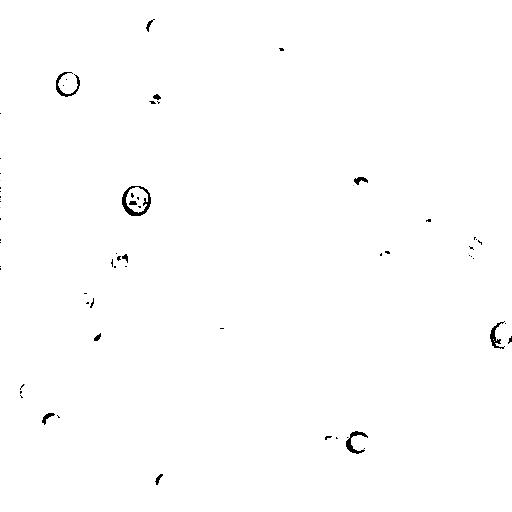micro-algae: (147, 27, 215, 96), (136, 262, 181, 305), (121, 185, 153, 217), (112, 359, 143, 391), (369, 242, 401, 271), (463, 229, 491, 262), (487, 320, 512, 353), (2, 142, 31, 168), (270, 29, 294, 59), (55, 71, 82, 97), (414, 215, 439, 239), (347, 431, 371, 455), (353, 169, 375, 195), (177, 90, 201, 113), (109, 249, 130, 274), (499, 25, 511, 66), (153, 470, 176, 491), (39, 411, 61, 432), (77, 289, 95, 313), (85, 322, 103, 344), (145, 17, 163, 37), (18, 383, 35, 401), (320, 435, 339, 451), (355, 0, 380, 11), (224, 0, 244, 8)
